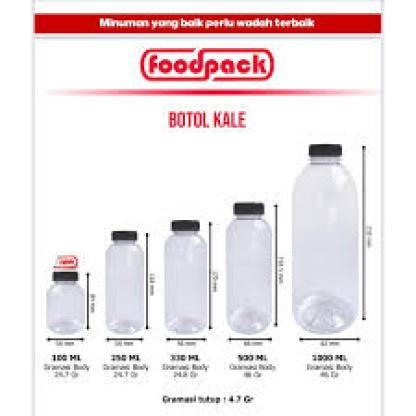Glass Bottle: (290, 142, 361, 335), (224, 201, 272, 336), (162, 219, 211, 337), (103, 229, 147, 336), (44, 271, 86, 336)
